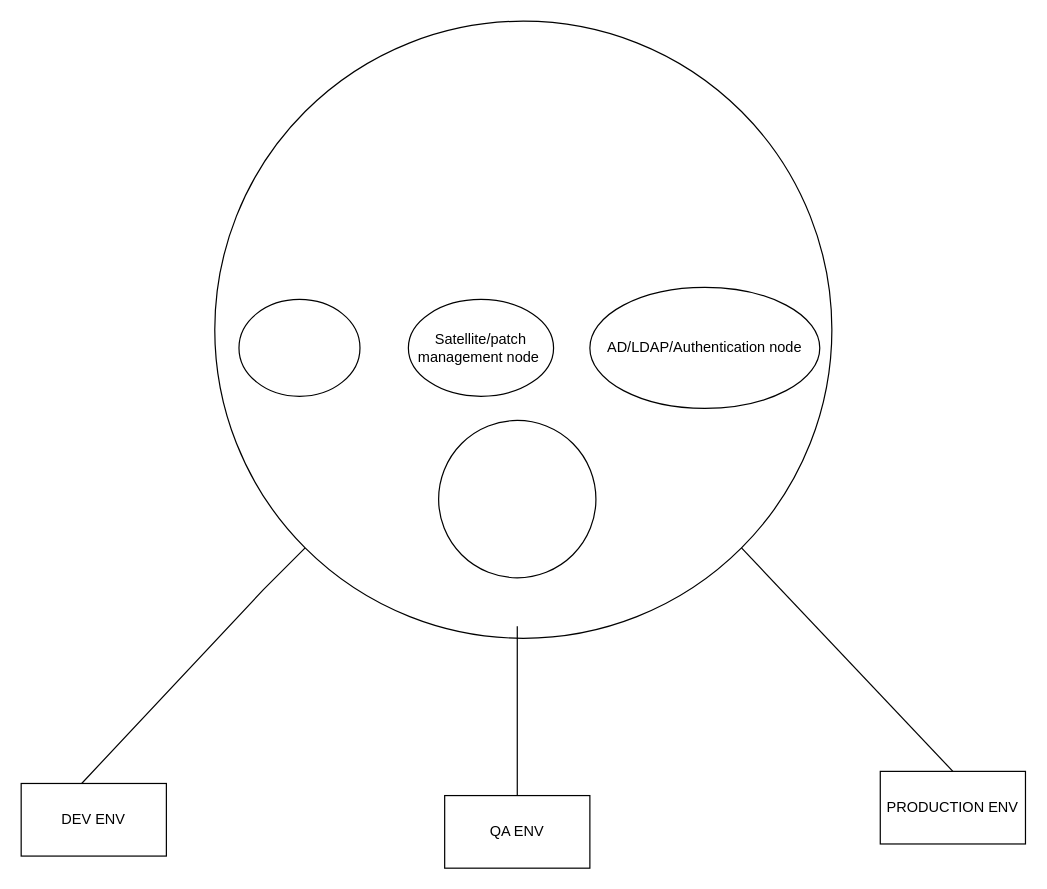
Image size: 1047x889. Some labels were removed from this diagram. Each missing label, with the centre of its shape:
"Juniper (junos) vlan/switch to seperate networks into prod,qa, and dev" goes at point 516,498.
"REFRESHED Ansible Node" goes at point 299,347.
